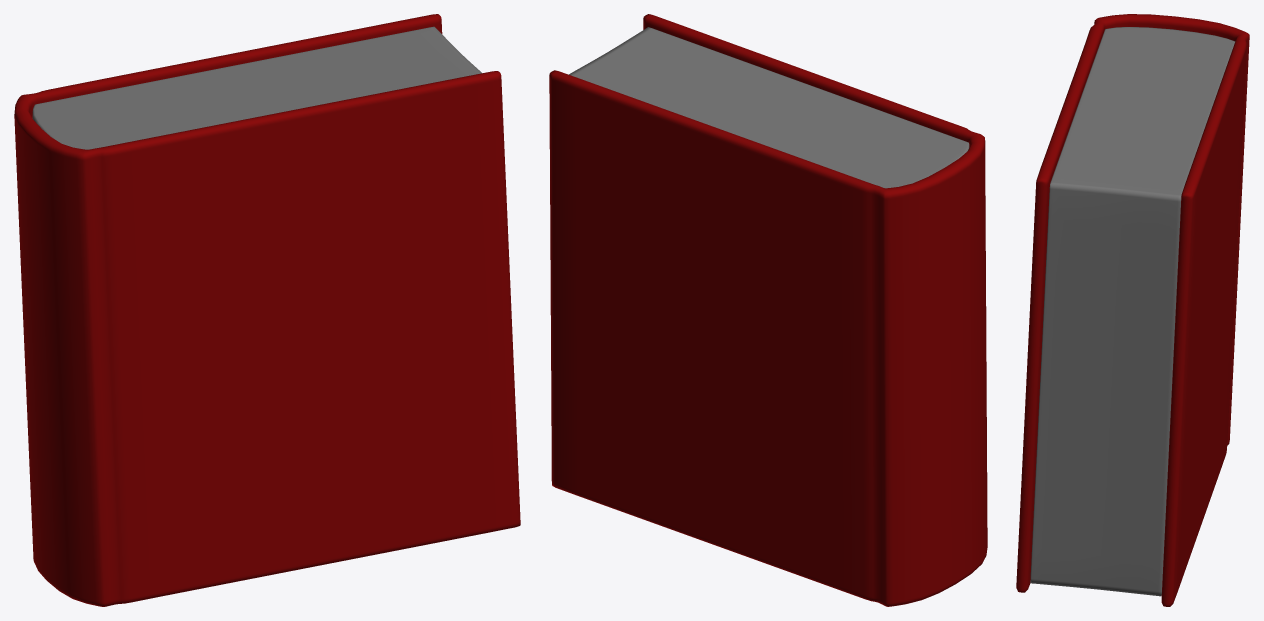
Rendered from blank-book.fbx.
3 renders of one model, left to right at view 1: azimuth 30°, elevation 25°; view 2: azimuth 150°, elevation 25°; view 3: azimuth 270°, elevation 25°, orthographic. The views are drawn at different scales.
Visible parts, largest first — view 1: Layer_0 (×2); view 2: Layer_0 (×2); view 3: Layer_0 (×2).
Part boxes in pixels (x1,y1,x2,y2): Layer_0 (×2): (14,14,520,606); Layer_0 (×2): (549,14,987,606); Layer_0 (×2): (1016,14,1249,606).
Bounding box in the file's own units: 0.2254 × 0.2327 × 0.1158.
